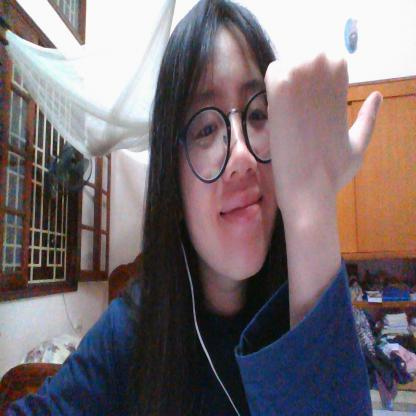left: (262, 46, 386, 216)
